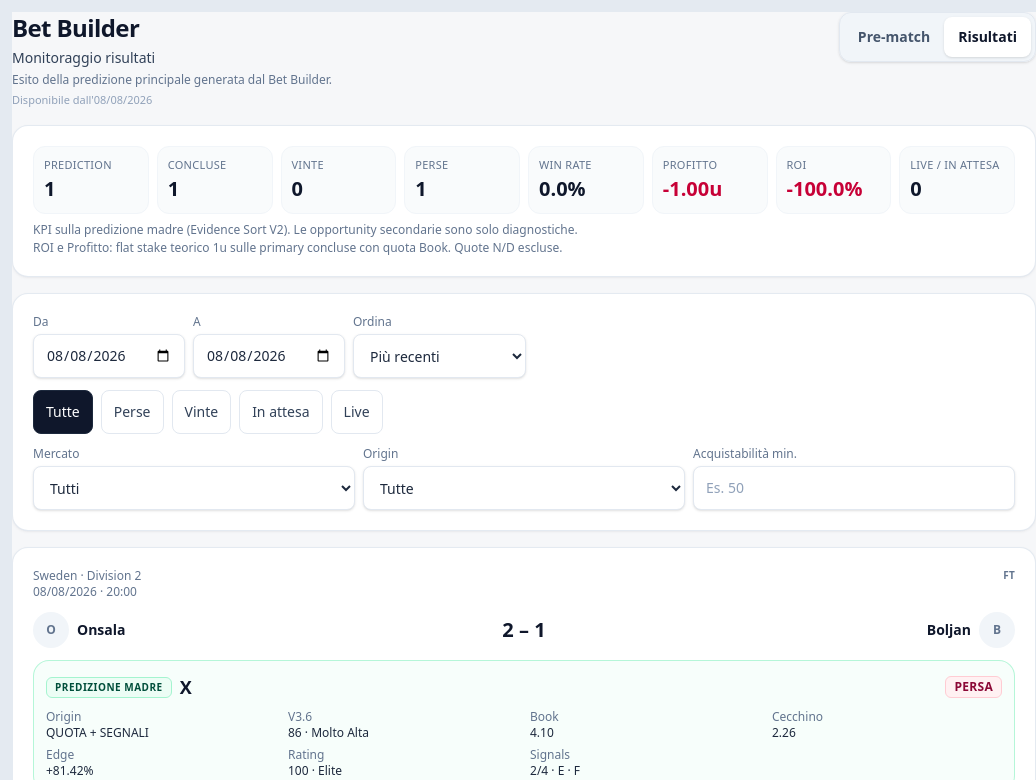
Test: BetBuilderPage Results BET-RESULTS-01 › BET-RESULTS-01.1 exit pending restores recent when auto
Click the button with test id "results-outcome-pending". click: (281, 412)
box: [239, 390, 323, 434]
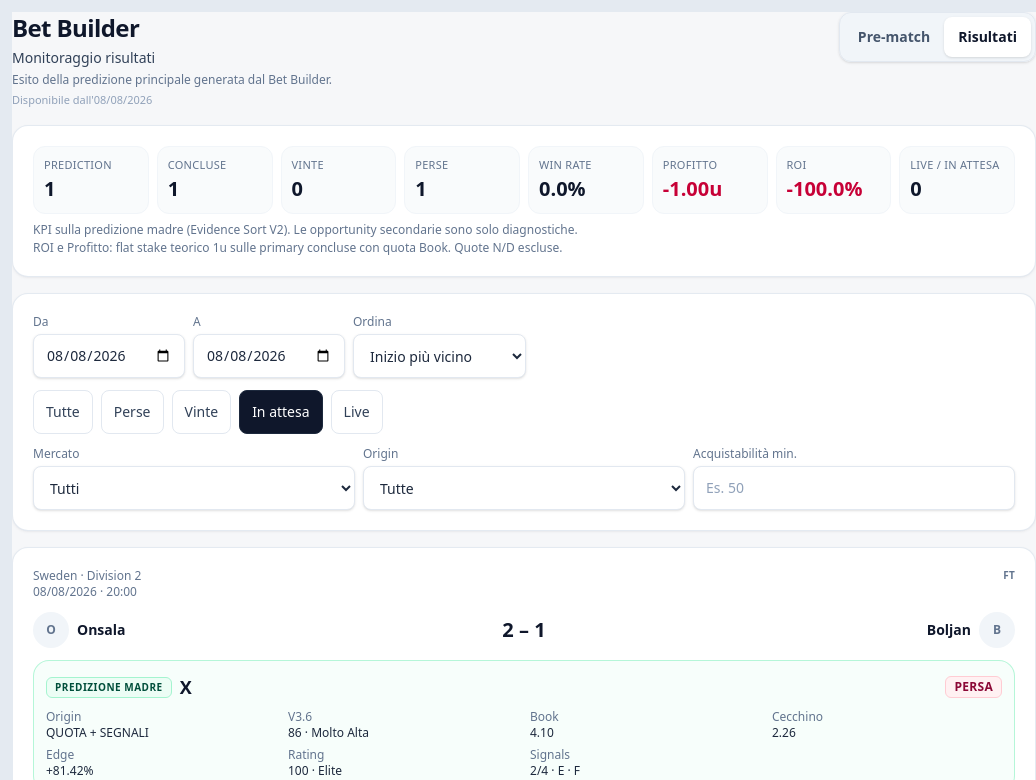
Result: the dropdown with test id "results-sort" shows "Inizio più vicino" at [353, 334, 526, 378]
Click the button with test id "results-outcome-won". click: (201, 412)
box: [172, 390, 231, 434]
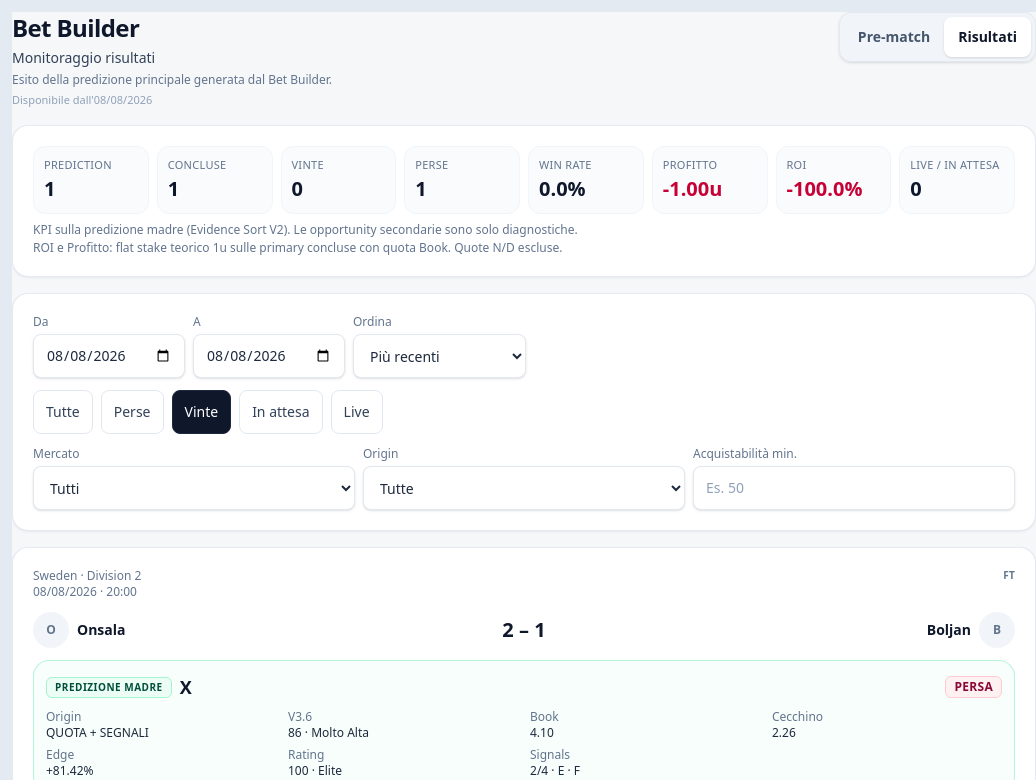
Result: the dropdown with test id "results-sort" shows "Più recenti" at [353, 334, 526, 378]
